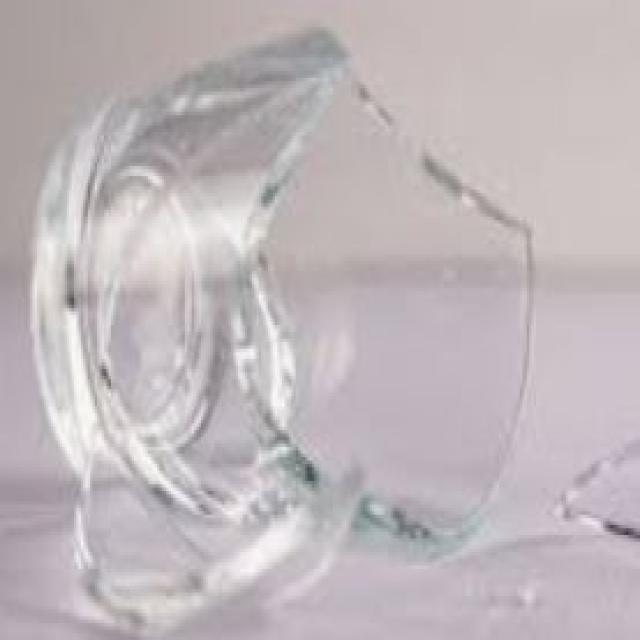electronic: (33, 19, 541, 557)
